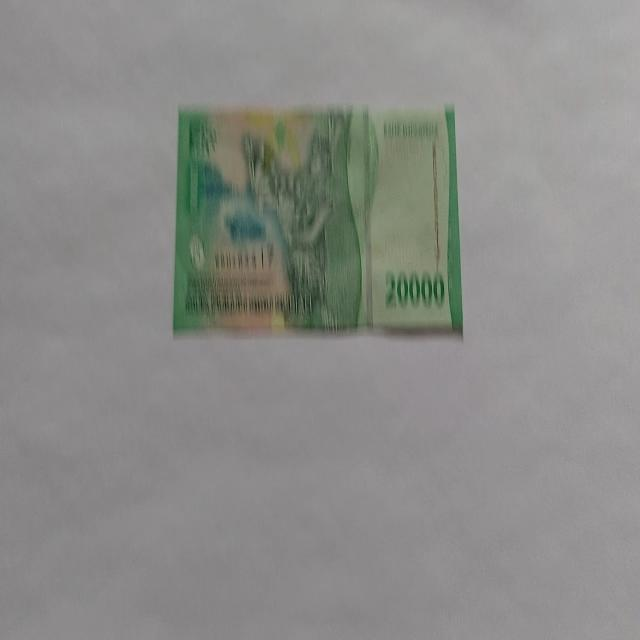dua puluh ribu rupiah: (172, 100, 464, 340)
